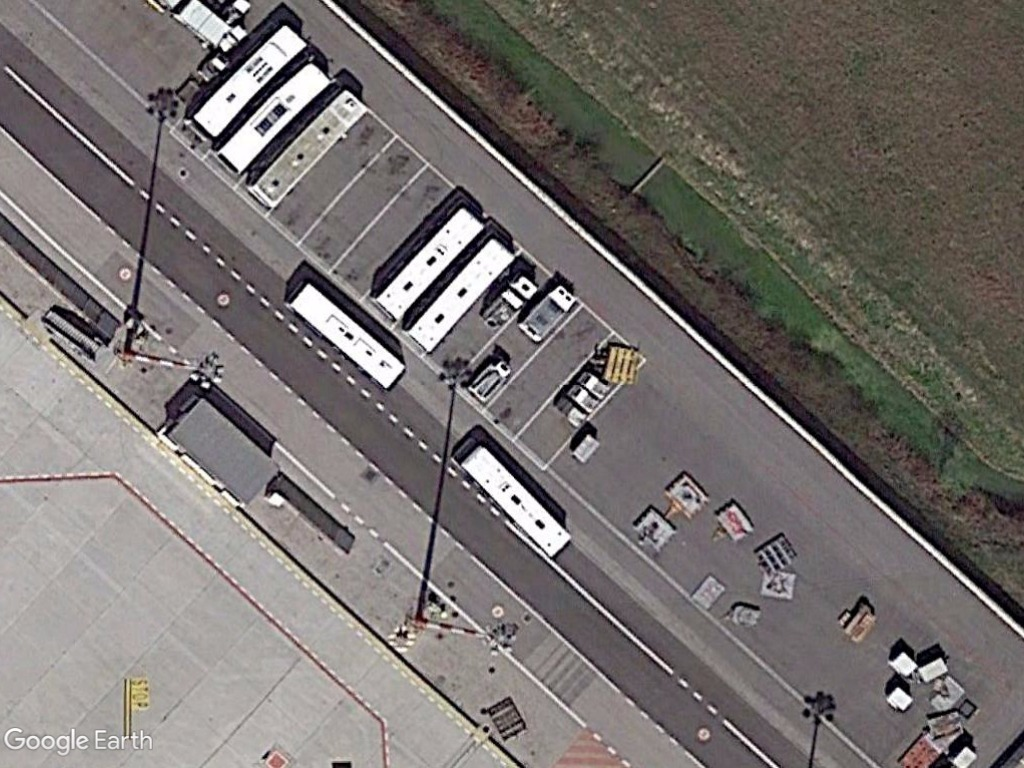bus: (182, 16, 314, 152), (240, 81, 373, 212), (278, 267, 408, 395), (364, 199, 492, 329), (400, 237, 528, 366), (450, 434, 576, 560), (216, 56, 339, 181)
stairtruck: (38, 304, 108, 368)
